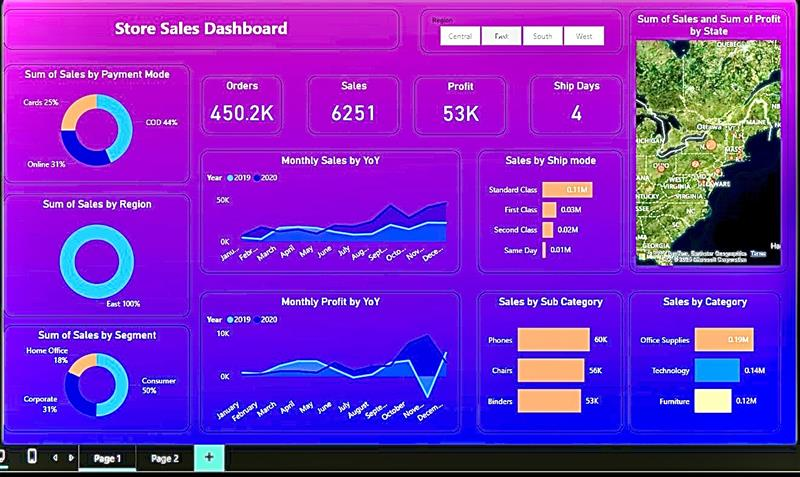

The page's visual inventory and layout, read from the dashboard file:
{"tool":"powerbi","page":{"name":"Page 1","canvas":[1280,720],"ordinal":0},"visuals":[{"type":"clusteredBarChart","title":"Sales by Category","fields":{"Category":["SuperStore_Sales_Dataset.Category"],"Y":["Sum(SuperStore_Sales_Dataset.Sales)"]},"box":[1011.3,472,244.3,227.8],"z":0},{"type":"clusteredBarChart","title":"Sales by Sub Category","fields":{"Category":["SuperStore_Sales_Dataset.Sub-Category"],"Y":["Sum(SuperStore_Sales_Dataset.Sales)"]},"box":[767.1,472,233.3,227.8],"z":1000},{"type":"clusteredBarChart","title":"Sales by Ship mode","fields":{"Category":["SuperStore_Sales_Dataset.Ship Mode"],"Y":["Sum(SuperStore_Sales_Dataset.Sales)"]},"box":[767.1,242.9,233.3,199],"z":2000},{"type":"areaChart","title":"Monthly Sales by YoY","fields":{"Y":["Sum(SuperStore_Sales_Dataset.Sales)"],"Series":["SuperStore_Sales_Dataset.Order Date.Variation.Date Hierarchy.Year"],"Category":["SuperStore_Sales_Dataset.Order Date.Variation.Date Hierarchy.Month","SuperStore_Sales_Dataset.Order Date.Variation.Date Hierarchy.Day"]},"box":[318.4,242.9,419.9,199],"z":3000},{"type":"areaChart","title":"Monthly Profit by YoY","fields":{"Series":["SuperStore_Sales_Dataset.Order Date.Variation.Date Hierarchy.Year"],"Category":["SuperStore_Sales_Dataset.Order Date.Variation.Date Hierarchy.Month","SuperStore_Sales_Dataset.Order Date.Variation.Date Hierarchy.Day"],"Y":["Sum(SuperStore_Sales_Dataset.Profit)"]},"box":[318.4,472,419.9,227.8],"z":4000},{"type":"map","fields":{"Size":["Sum(SuperStore_Sales_Dataset.Sales)"],"Category":["SuperStore_Sales_Dataset.State"]},"box":[1011.3,15.1,256.6,426.8],"z":5000},{"type":"donutChart","fields":{"Category":["SuperStore_Sales_Dataset.Segment"],"Y":["Sum(SuperStore_Sales_Dataset.Sales)"]},"box":[0,526.9,300.5,172.9],"z":6000},{"type":"donutChart","fields":{"Category":["SuperStore_Sales_Dataset.Payment Mode"],"Y":["Sum(SuperStore_Sales_Dataset.Sales)"]},"box":[0,104.3,300.5,192.1],"z":7000},{"type":"slicer","fields":{"Values":["SuperStore_Sales_Dataset.Region"]},"box":[673.8,15.1,326.6,71.4],"z":8000},{"type":"textbox","box":[0,15.1,639.5,65.9],"z":9000},{"type":"card","title":"Orders","fields":{"Values":["Sum(SuperStore_Sales_Dataset.Sales)"]},"box":[319.7,122.1,129,94.7],"z":10000},{"type":"card","title":"Sales","fields":{"Values":["Sum(SuperStore_Sales_Dataset.Quantity)"]},"box":[492.6,122.1,146.8,94.7],"z":11000},{"type":"card","title":"Profit","fields":{"Values":["Sum(SuperStore_Sales_Dataset.Profit)"]},"box":[664.2,123.5,148.2,94.7],"z":12000},{"type":"card","title":"Ship Days","fields":{"Values":["Avg(SuperStore_Sales_Dataset.Avgdelivary)"]},"box":[852.1,122.1,148.2,94.7],"z":13000},{"type":"donutChart","fields":{"Category":["SuperStore_Sales_Dataset.Region"],"Y":["Sum(SuperStore_Sales_Dataset.Sales)"]},"box":[0,314.2,300.5,199],"z":14000}]}

Visuals, with their boxes on the page's 1280x720 design canvas (x1, y1, x2, y2). These are canvas units, not pixel positions in the 800x477 screenshot, which may show the page scaled, cropped or inside an application window:
"Sales by Category" clusteredBarChart: 1011:472:1256:700
"Sales by Sub Category" clusteredBarChart: 767:472:1000:700
"Sales by Ship mode" clusteredBarChart: 767:243:1000:442
"Monthly Sales by YoY" areaChart: 318:243:738:442
"Monthly Profit by YoY" areaChart: 318:472:738:700
map - Sum(SuperStore_Sales_Dataset.Sales) x SuperStore_Sales_Dataset.State: 1011:15:1268:442
donutChart - SuperStore_Sales_Dataset.Segment x Sum(SuperStore_Sales_Dataset.Sales): 0:527:300:700
donutChart - SuperStore_Sales_Dataset.Payment Mode x Sum(SuperStore_Sales_Dataset.Sales): 0:104:300:296
slicer - SuperStore_Sales_Dataset.Region: 674:15:1000:86
textbox: 0:15:640:81
"Orders" card: 320:122:449:217
"Sales" card: 493:122:639:217
"Profit" card: 664:124:812:218
"Ship Days" card: 852:122:1000:217
donutChart - SuperStore_Sales_Dataset.Region x Sum(SuperStore_Sales_Dataset.Sales): 0:314:300:513
